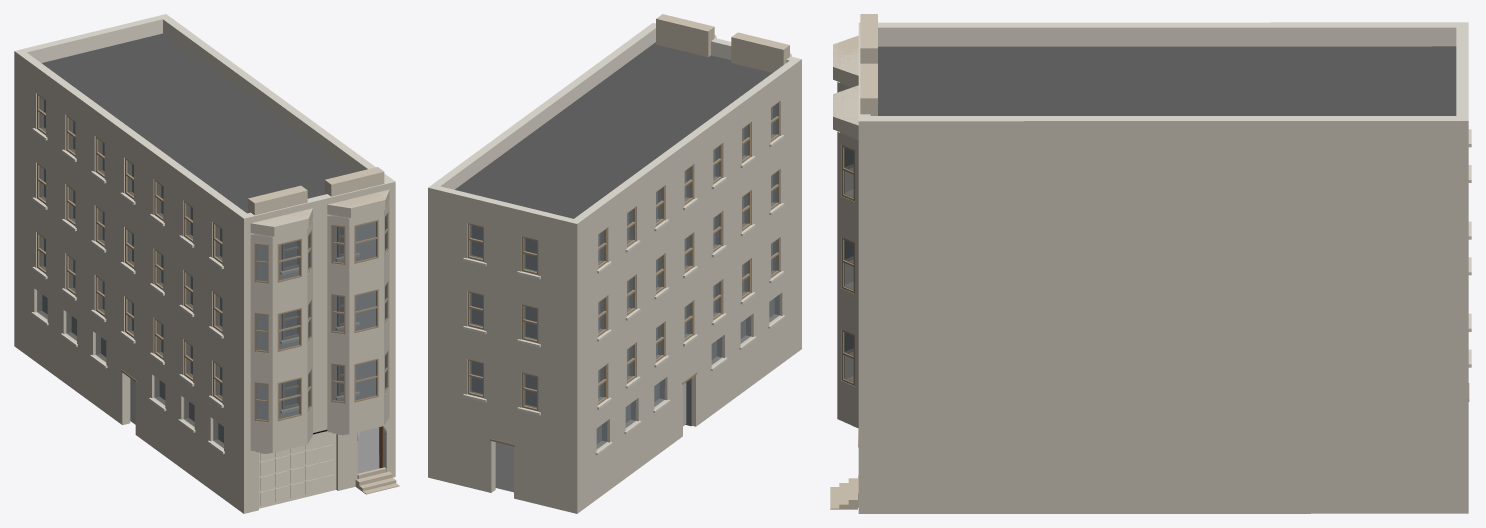
The model's file is exterior.glb.
3 renders of one model, left to right at view 1: azimuth 30°, elevation 25°; view 2: azimuth 150°, elevation 25°; view 3: azimuth 270°, elevation 25°, orthographic. The views are drawn at different scales.
Visible parts, largest first — view 1: shell, roof, bay-windows, bay-glazing, shadow-proxy, glazing, frames, storefront, trim, relief-0, hyC-arches-0, bay-windows-crown; view 2: shell, roof, glazing, frames, shadow-proxy, relief-0, trim; view 3: shell, roof, bay-windows, bay-glazing, relief-0, hyC-arches-0, bay-windows-crown.
Part boxes in pixels (x1,y1,x2,y2): shell: (14, 14, 395, 513); roof: (41, 33, 353, 213); bay-windows: (250, 189, 389, 452); bay-glazing: (254, 212, 388, 422); shadow-proxy: (42, 100, 379, 473); glazing: (37, 97, 379, 455); frames: (37, 94, 343, 409); storefront: (121, 369, 383, 508); trim: (31, 128, 359, 453); relief-0: (248, 167, 384, 215); hyC-arches-0: (355, 421, 399, 494); bay-windows-crown: (252, 190, 388, 453); shell: (428, 23, 801, 513); roof: (455, 42, 772, 218); glazing: (470, 104, 779, 448); frames: (467, 101, 779, 411); shadow-proxy: (472, 107, 774, 492); relief-0: (656, 14, 789, 72); trim: (463, 135, 785, 455); shell: (858, 22, 1468, 513); roof: (878, 46, 1456, 115); bay-windows: (833, 35, 858, 427); bay-glazing: (838, 82, 854, 385); relief-0: (860, 14, 877, 115); hyC-arches-0: (830, 428, 858, 509); bay-windows-crown: (833, 36, 858, 427).
Bounding box in the file's own units: 6.68 × 12.72 × 18.09.
